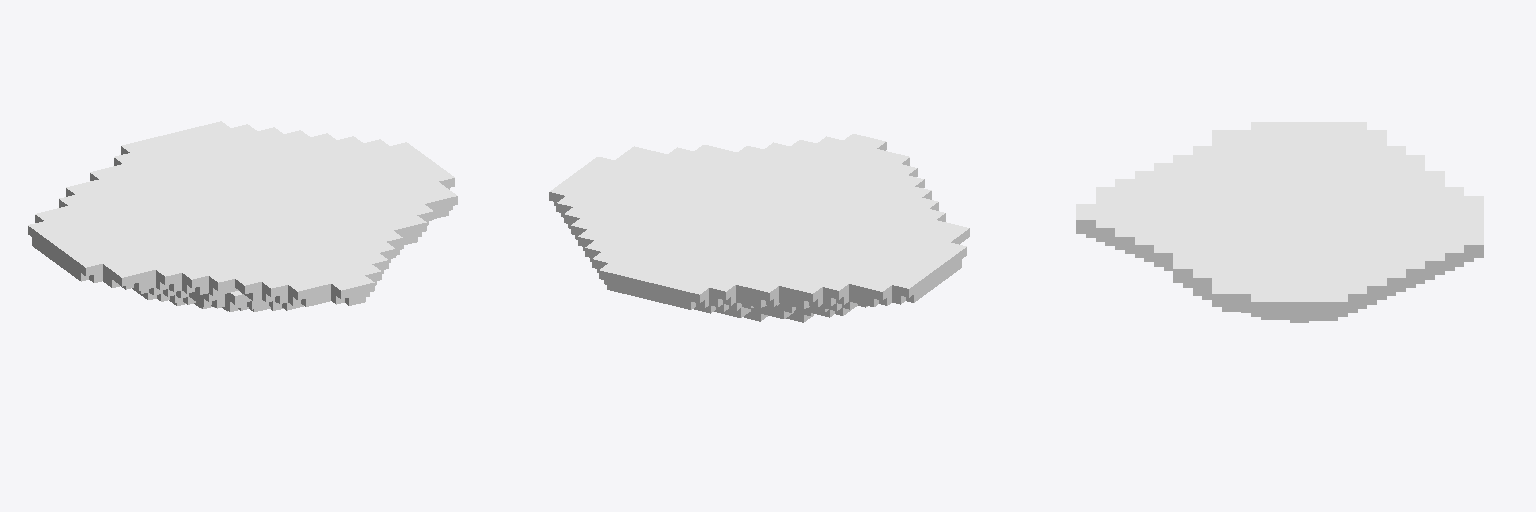
Rendered from ice_land1.obj.
3 views of the same model, side by side, from view 1: azimuth 30°, elevation 25°; view 2: azimuth 150°, elevation 25°; view 3: azimuth 270°, elevation 25° (orthographic).
Visible parts, largest first — view 1: object 1; view 2: object 1; view 3: object 1.
Boxes of the visible parts, x1=… form: object 1: x1=28, y1=121, x2=457, y2=311; object 1: x1=549, y1=134, x2=969, y2=322; object 1: x1=1076, y1=122, x2=1483, y2=322.
Bounding box in the file's own units: 4.4 × 1 × 4.2.